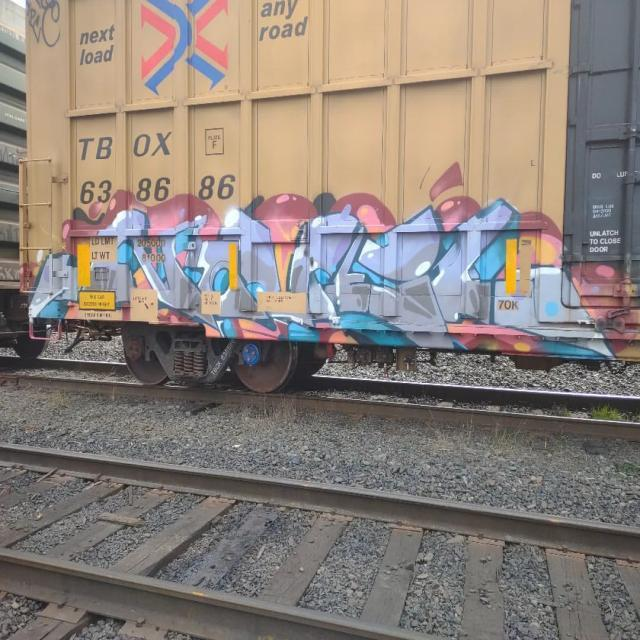-: (27, 196, 631, 367), (75, 124, 238, 208), (583, 160, 630, 264), (254, 0, 309, 45), (81, 18, 121, 70), (28, 0, 66, 47)
